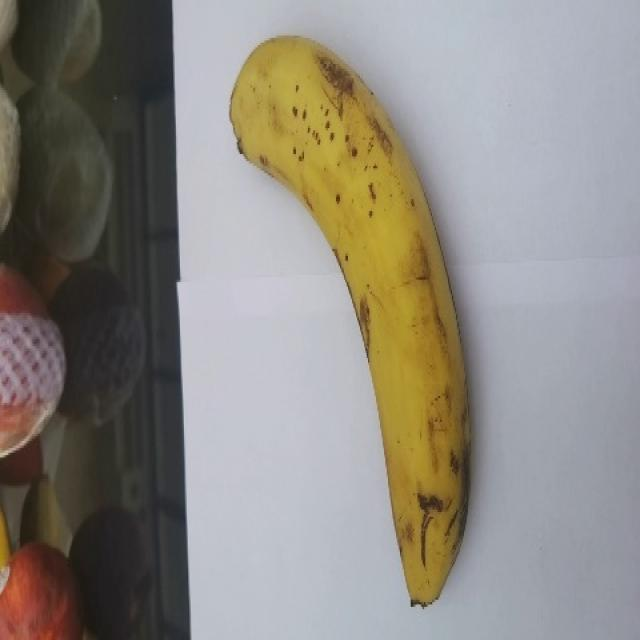Banana: (223, 30, 482, 610)
